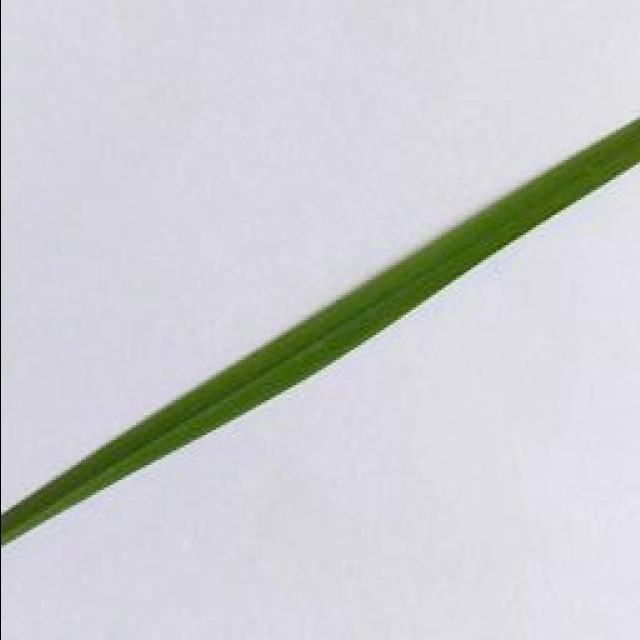Healthy: (0, 118, 640, 548)
